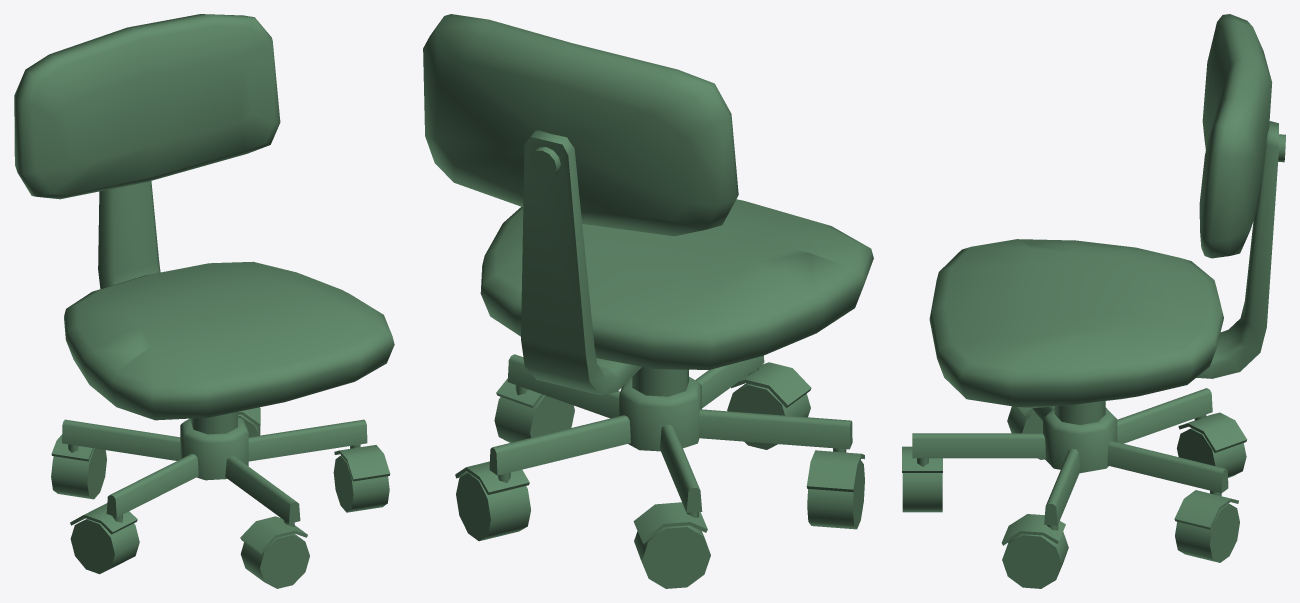
The model's file is OfficeChair.FBX.
3 views of the same model, side by side, from view 1: azimuth 30°, elevation 25°; view 2: azimuth 150°, elevation 25°; view 3: azimuth 270°, elevation 25° (orthographic). The views are drawn at different scales.
Parts seen in each view (by area): view 1: OfficeChair; view 2: OfficeChair; view 3: OfficeChair.
Part boxes in pixels (bbox=[...]): OfficeChair: bbox=[14, 14, 394, 588]; OfficeChair: bbox=[423, 14, 873, 588]; OfficeChair: bbox=[902, 14, 1285, 588].
Bounding box in the file's own units: 56.37 × 78.52 × 60.
